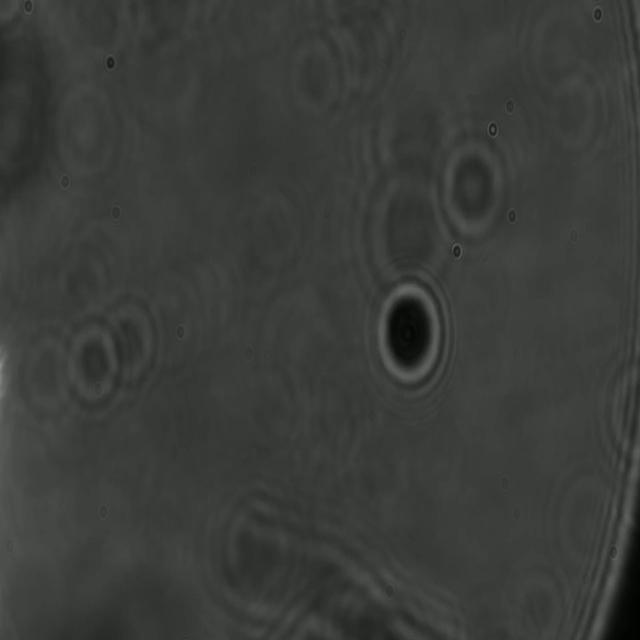DCELL: (372, 271, 452, 402)
